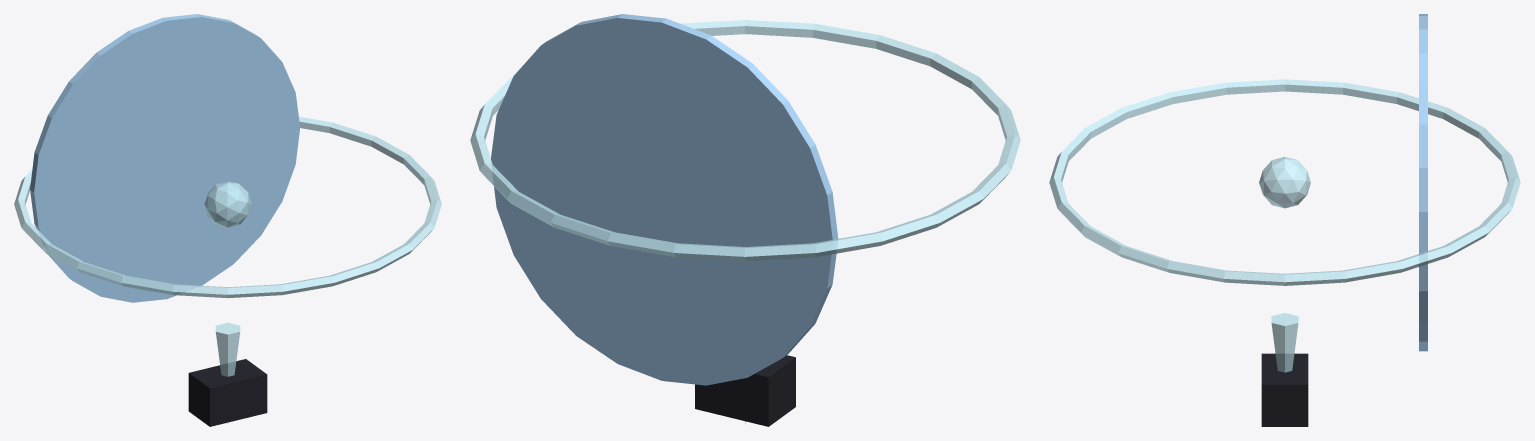
Rendered from 05_combat_start_camera_rig.glb.
3 views of the same model, side by side, from view 1: azimuth 30°, elevation 25°; view 2: azimuth 150°, elevation 25°; view 3: azimuth 270°, elevation 25° (orthographic). The views are drawn at different scales.
Visible parts, largest first — view 1: combat_start_trigger_disc, camera_orbit_track, camera_proxy, target_focus_point, look_vector; view 2: combat_start_trigger_disc, camera_orbit_track, camera_proxy; view 3: camera_orbit_track, camera_proxy, combat_start_trigger_disc, target_focus_point, look_vector.
Part boxes in pixels (box(x1,y1,x2,y2)): combat_start_trigger_disc: box(30, 14, 300, 302); camera_orbit_track: box(14, 116, 441, 298); camera_proxy: box(188, 359, 267, 426); target_focus_point: box(204, 181, 251, 227); look_vector: box(215, 322, 240, 423); combat_start_trigger_disc: box(491, 14, 838, 385); camera_orbit_track: box(470, 20, 1020, 261); camera_proxy: box(695, 355, 795, 426); camera_orbit_track: box(1049, 79, 1520, 285); camera_proxy: box(1261, 353, 1308, 426); combat_start_trigger_disc: box(1419, 14, 1427, 351); target_focus_point: box(1259, 157, 1310, 208); look_vector: box(1271, 313, 1298, 372).
Size of the model in its own units: 1.81 by 1.68 by 1.81.
